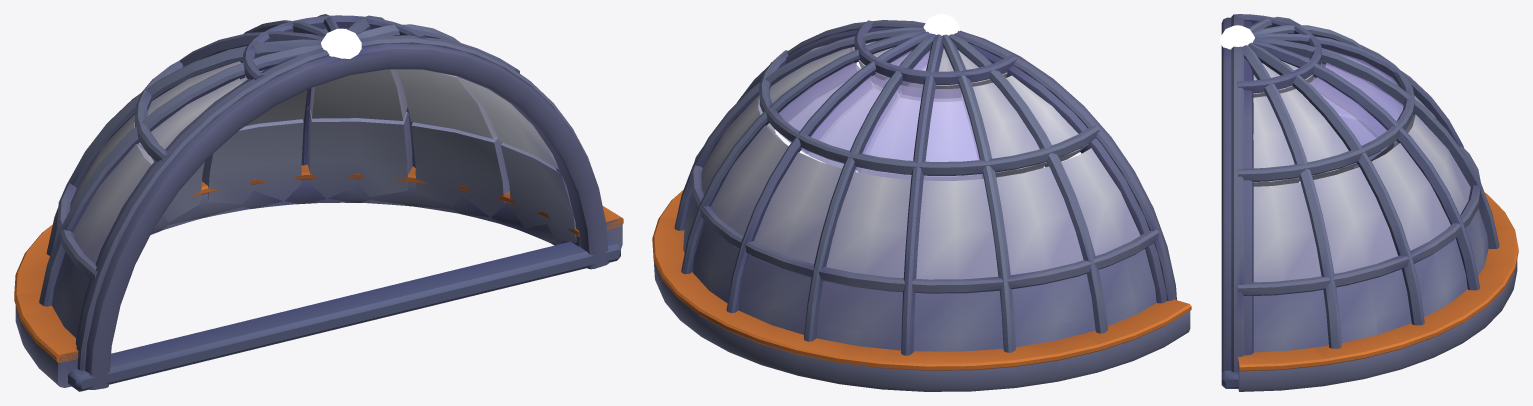
File: hub_ruin_dome_half.glb
3 renders of one model, left to right at view 1: azimuth 30°, elevation 25°; view 2: azimuth 150°, elevation 25°; view 3: azimuth 270°, elevation 25°, orthographic. The views are drawn at different scales.
Parts seen in each view (by area): view 1: hub_ruin_dome_half; view 2: hub_ruin_dome_half; view 3: hub_ruin_dome_half.
Boxes of the visible parts, x1,y1,x2,y2 form: hub_ruin_dome_half: (14, 14, 623, 391); hub_ruin_dome_half: (652, 14, 1191, 391); hub_ruin_dome_half: (1220, 14, 1518, 391).
Size of the model in its own units: 8.84 by 4.34 by 4.69.
